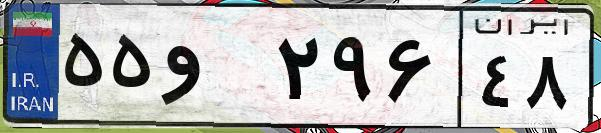2: (270, 28, 330, 110)
4: (475, 38, 525, 113)
5: (57, 26, 110, 100), (110, 28, 158, 98)
6: (385, 28, 445, 110)
8: (525, 38, 570, 115)
9: (330, 28, 385, 110)
و: (158, 20, 270, 120)
